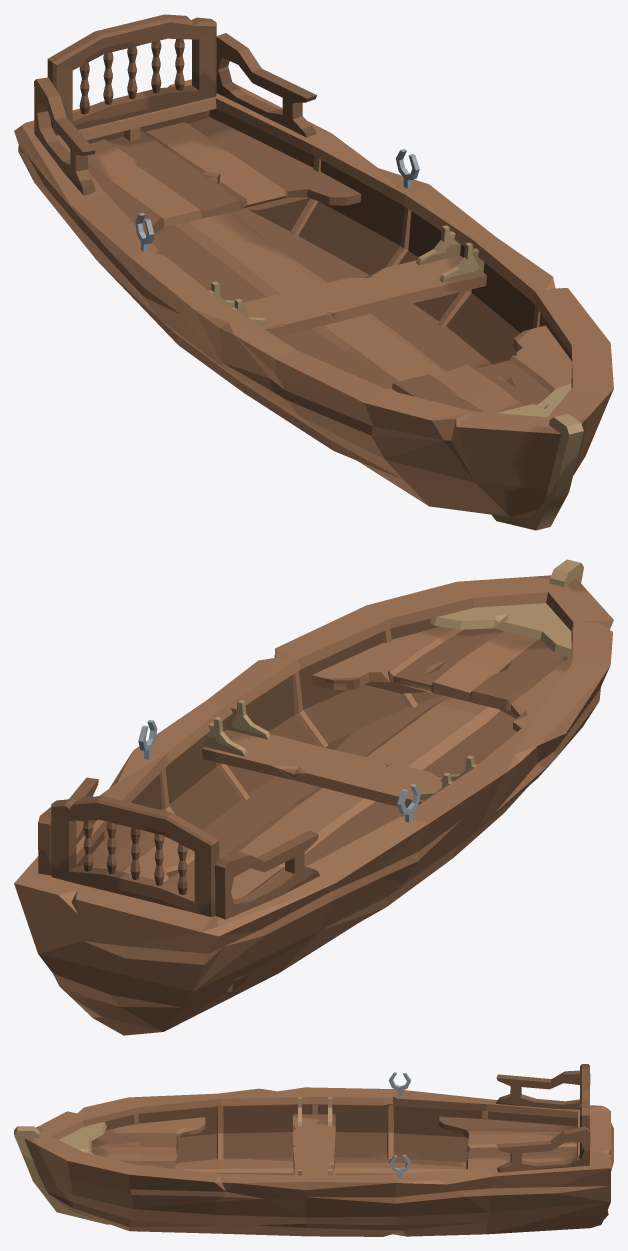
The model's file is alp_Prop_Canoe_01.glb.
The picture shows the model from 3 angles, top to bottom: view 1: azimuth 30°, elevation 25°; view 2: azimuth 150°, elevation 25°; view 3: azimuth 270°, elevation 25°; orthographic projection. The views are drawn at different scales.
Visible parts, largest first — view 1: SM_Prop_Canoe_01; view 2: SM_Prop_Canoe_01; view 3: SM_Prop_Canoe_01.
Part boxes in pixels (left/top/right/bottom): SM_Prop_Canoe_01: left=14, top=14, right=613, bottom=530; SM_Prop_Canoe_01: left=14, top=559, right=613, bottom=1035; SM_Prop_Canoe_01: left=14, top=1064, right=613, bottom=1236.
Bounding box in the file's own units: 1.69 × 1.18 × 4.49.
Materials: 1 (1 with a texture image).
